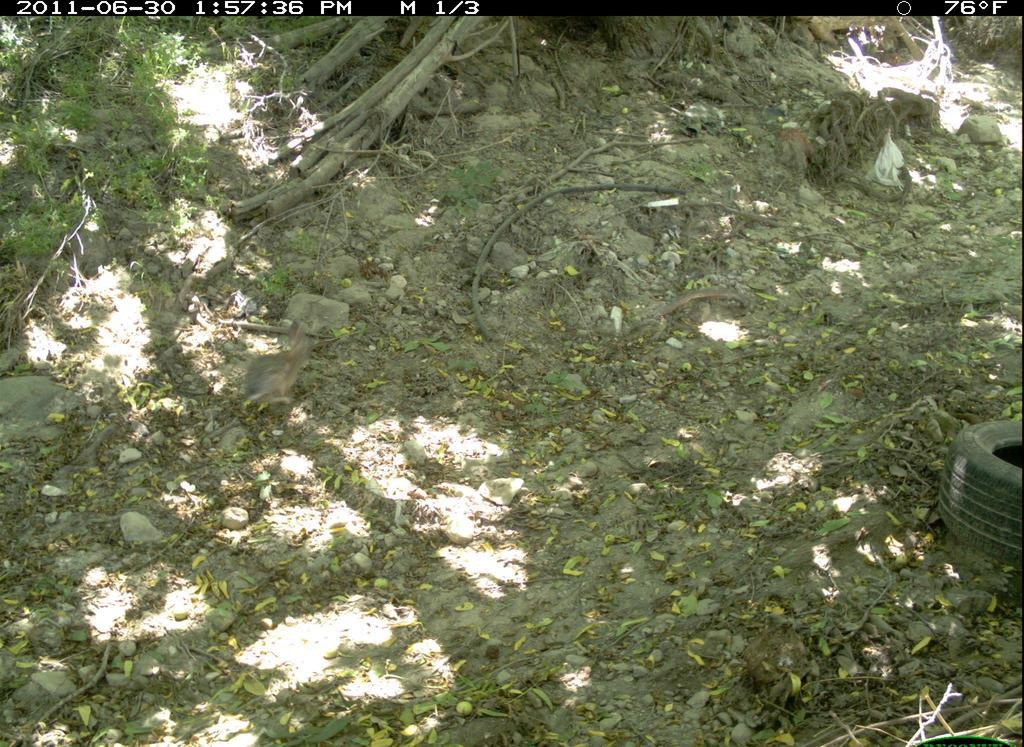rabbit: (244, 321, 314, 413)
